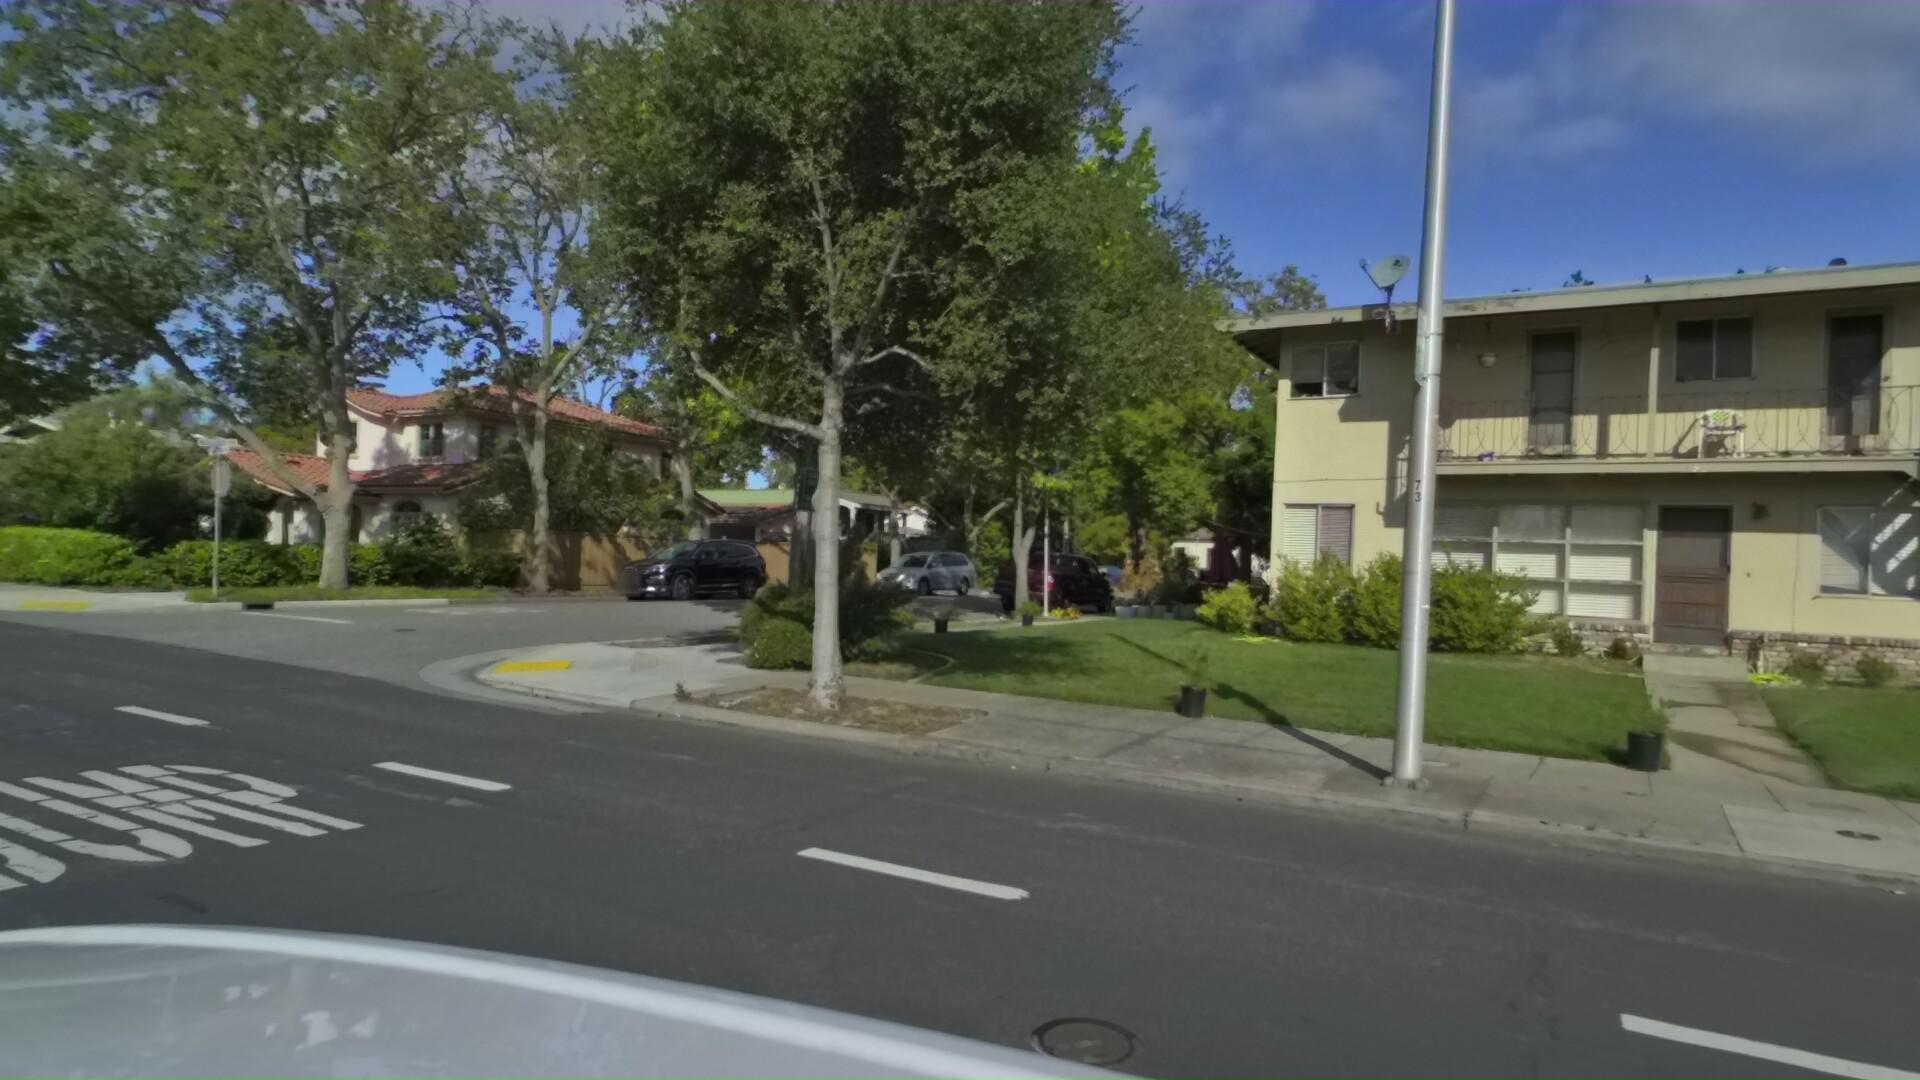car: (585, 533, 774, 607), (971, 547, 1106, 624), (852, 549, 971, 600), (1139, 564, 1218, 615)
